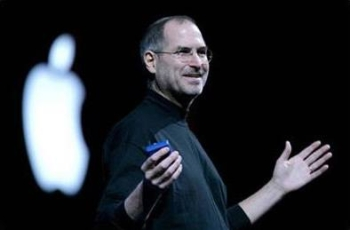hand: (273, 139, 332, 191), (139, 147, 183, 192)
